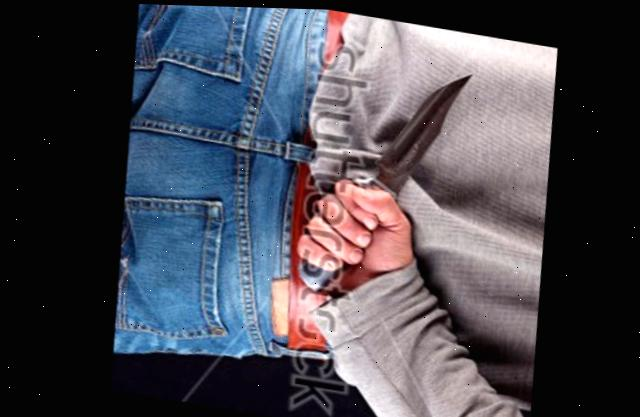pocket-knife: (309, 36, 495, 266)
